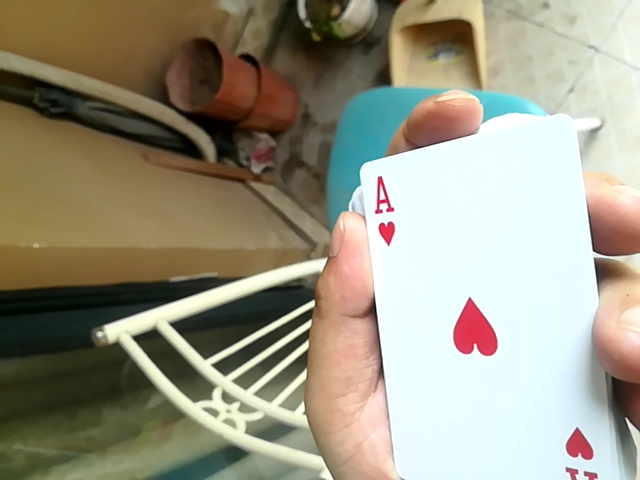hx a: (356, 120, 623, 478)
